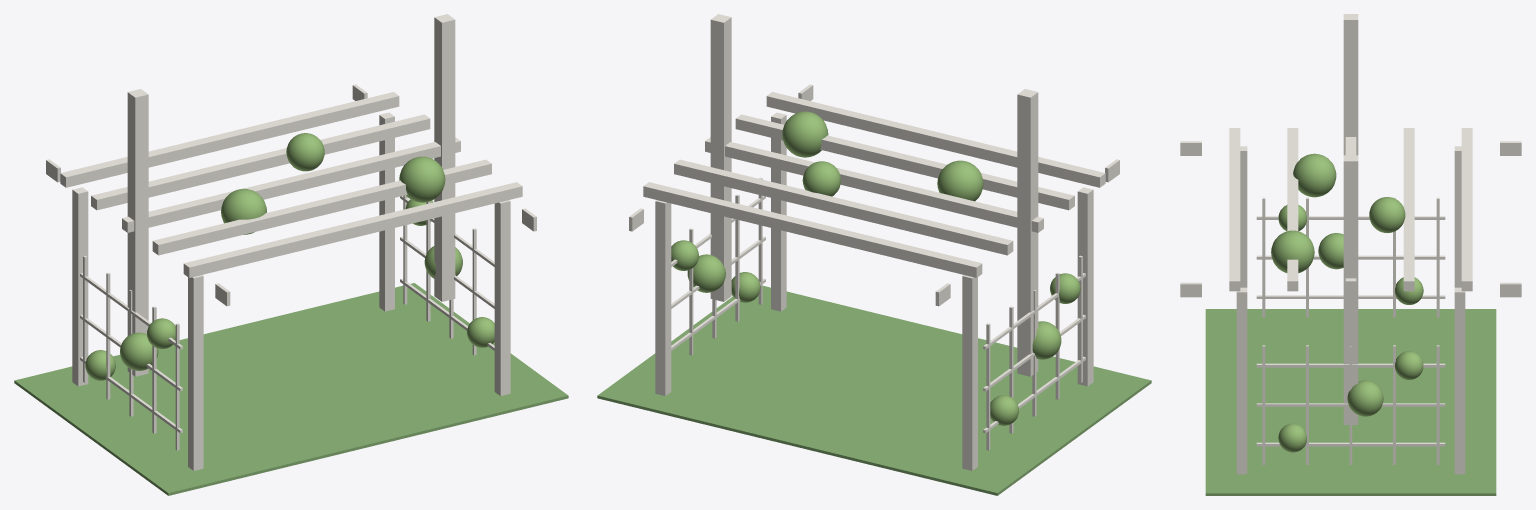
Rendered from garden_pergola.glb.
3 views of the same model, side by side, from view 1: azimuth 30°, elevation 25°; view 2: azimuth 150°, elevation 25°; view 3: azimuth 270°, elevation 25° (orthographic). The views are drawn at different scales.
Visible parts, largest first — view 1: ground, rafter_5, rafter_1, beam_r, beam_l, rafter_4, rafter_2, rafter_3, post_br, post_bl, post_fl, post_fr (+9 smaller); view 2: ground, beam_l, rafter_1, rafter_2, rafter_5, beam_r, rafter_3, rafter_4, post_fr, post_fl, post_bl, post_br (+10 smaller); view 3: ground, beam_r, post_fr, post_br, beam_l, rafter_1, rafter_5, rafter_2, rafter_4, vine_top_1, vine_top_3, post_fl (+20 smaller).
Part boxes in pixels (x1=…): ground: x1=14, y1=283, x2=568, y2=495; rafter_5: x1=183, y1=182, x2=522, y2=277; rafter_1: x1=60, y1=92, x2=399, y2=187; beam_r: x1=434, y1=14, x2=455, y2=301; beam_l: x1=127, y1=89, x2=148, y2=376; rafter_4: x1=152, y1=159, x2=491, y2=255; rafter_2: x1=91, y1=114, x2=430, y2=210; rafter_3: x1=122, y1=137, x2=460, y2=232; post_br: x1=494, y1=200, x2=510, y2=395; post_bl: x1=188, y1=275, x2=203, y2=470; post_fl: x1=72, y1=187, x2=88, y2=386; post_fr: x1=379, y1=112, x2=394, y2=311; ground: x1=597, y1=285, x2=1151, y2=495; beam_l: x1=1017, y1=89, x2=1038, y2=376; rafter_1: x1=643, y1=182, x2=982, y2=277; rafter_2: x1=674, y1=159, x2=1013, y2=255; rafter_5: x1=766, y1=92, x2=1105, y2=187; beam_r: x1=710, y1=14, x2=731, y2=301; rafter_3: x1=705, y1=137, x2=1043, y2=232; rafter_4: x1=735, y1=114, x2=1074, y2=210; post_fr: x1=655, y1=200, x2=671, y2=395; post_fl: x1=962, y1=275, x2=977, y2=470; post_bl: x1=1077, y1=187, x2=1093, y2=386; post_br: x1=771, y1=112, x2=786, y2=311; ground: x1=1205, y1=309, x2=1496, y2=495; beam_r: x1=1343, y1=155, x2=1358, y2=424; post_fr: x1=1454, y1=287, x2=1465, y2=474; post_br: x1=1236, y1=287, x2=1247, y2=474; beam_l: x1=1343, y1=14, x2=1358, y2=155; rafter_1: x1=1461, y1=128, x2=1472, y2=291; rafter_5: x1=1229, y1=128, x2=1240, y2=291; rafter_2: x1=1403, y1=128, x2=1414, y2=291; rafter_4: x1=1287, y1=128, x2=1298, y2=291; vine_top_1: x1=1293, y1=153, x2=1336, y2=197; vine_top_3: x1=1271, y1=230, x2=1314, y2=273; post_fl: x1=1454, y1=146, x2=1461, y2=287.
Size of the model in its own units: 6 by 4.8 by 4.7.
